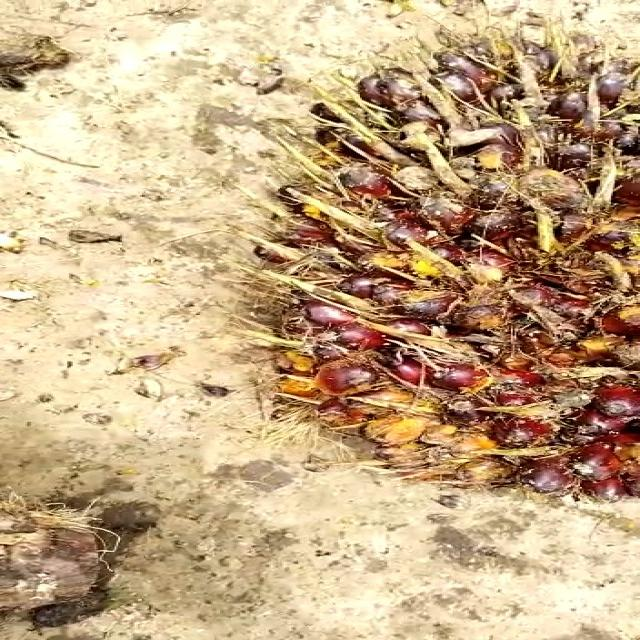palm oil: (288, 24, 640, 504)
